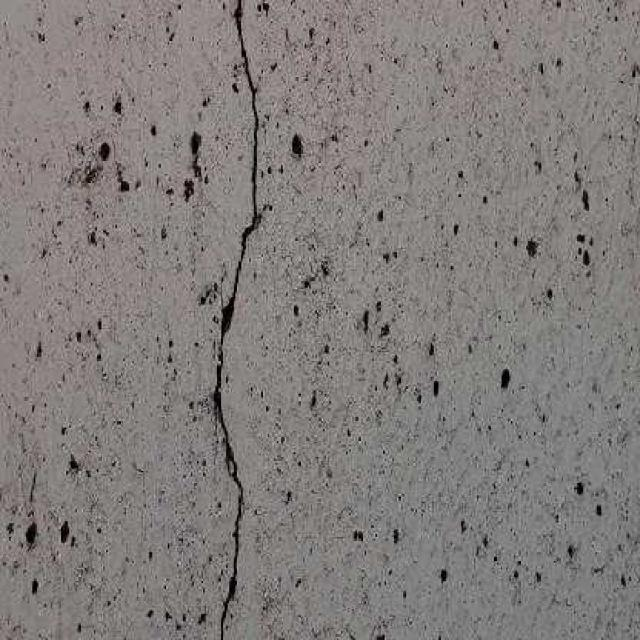D00: (214, 0, 259, 640)
